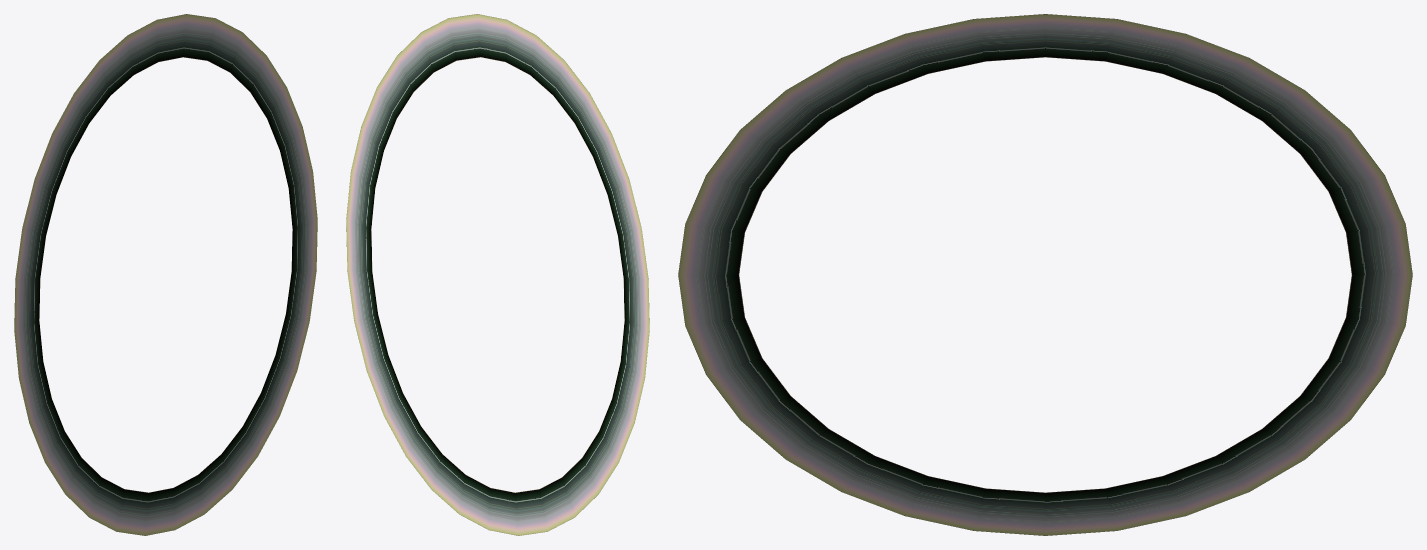
The model's file is uranusRing.obj.
3 views of the same model, side by side, from view 1: azimuth 30°, elevation 25°; view 2: azimuth 150°, elevation 25°; view 3: azimuth 270°, elevation 25° (orthographic). The views are drawn at different scales.
Parts seen in each view (by area): view 1: Circle_Circle.004; view 2: Circle_Circle.004; view 3: Circle_Circle.004.
Part boxes in pixels (x1,y1,x2,y2): Circle_Circle.004: (14,14,317,535); Circle_Circle.004: (346,14,649,535); Circle_Circle.004: (678,14,1412,535).
Size of the model in its own units: 2.04 by 5.69 by 6.04.
1 material, 1 textured.
